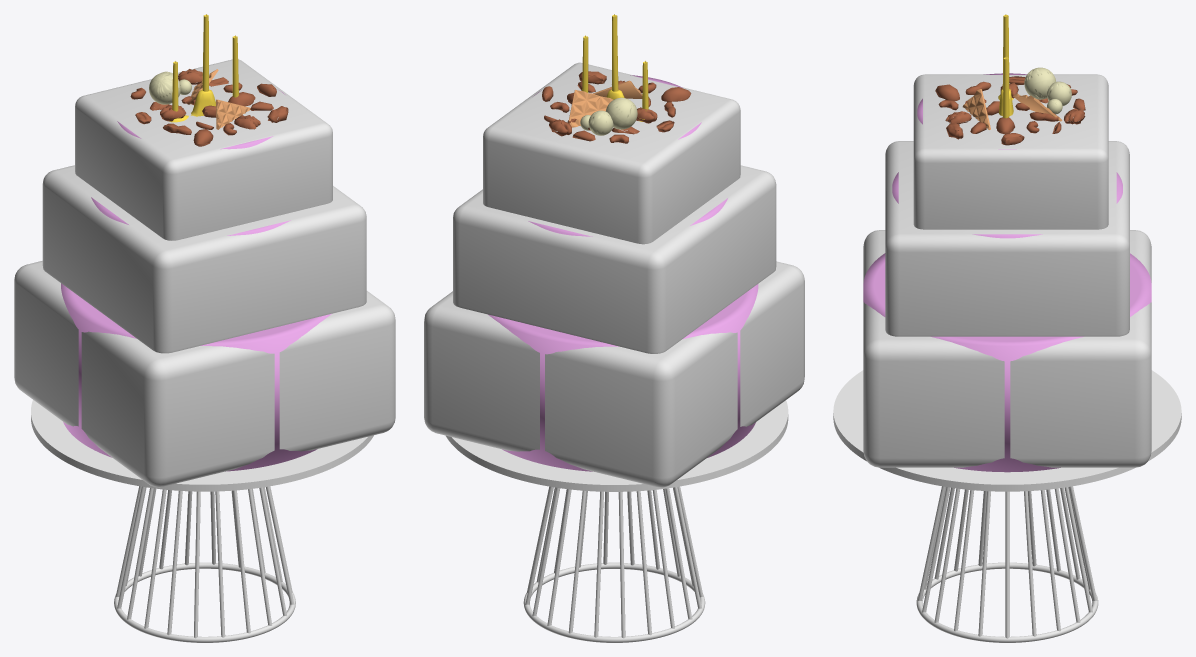
File: tier3.gltf
3 renders of one model, left to right at view 1: azimuth 30°, elevation 25°; view 2: azimuth 150°, elevation 25°; view 3: azimuth 270°, elevation 25°, orthographic.
Parts seen in each view (by area): view 1: Rectangle1st_layer, Rectangle2nd_layer, Rectangle3rd_layer, Base-2, round1st_layer, nuts, chandel, balls, bar; view 2: Rectangle1st_layer, Rectangle2nd_layer, Rectangle3rd_layer, Base-2, round1st_layer, nuts, balls, chandel, bar; view 3: Rectangle1st_layer, Rectangle2nd_layer, Rectangle3rd_layer, Base-2, round1st_layer, nuts, balls, bar, chandel, round2nd_layer.
Boxes of the visible parts, bbox=[...] form: Rectangle1st_layer: bbox=[14, 261, 395, 487]; Rectangle2nd_layer: bbox=[42, 165, 366, 353]; Rectangle3rd_layer: bbox=[75, 59, 332, 240]; Base-2: bbox=[31, 400, 373, 642]; round1st_layer: bbox=[61, 283, 331, 471]; nuts: bbox=[130, 69, 288, 146]; chandel: bbox=[169, 14, 238, 122]; balls: bbox=[149, 71, 191, 104]; bar: bbox=[187, 69, 250, 129]; Rectangle1st_layer: bbox=[424, 261, 804, 487]; Rectangle2nd_layer: bbox=[453, 165, 776, 353]; Rectangle3rd_layer: bbox=[483, 62, 740, 244]; Base-2: bbox=[446, 400, 788, 642]; round1st_layer: bbox=[488, 284, 758, 471]; nuts: bbox=[542, 71, 691, 143]; balls: bbox=[580, 97, 637, 135]; chandel: bbox=[582, 14, 648, 121]; bar: bbox=[568, 80, 642, 127]; Rectangle1st_layer: bbox=[863, 230, 1151, 467]; Rectangle2nd_layer: bbox=[885, 141, 1129, 336]; Rectangle3rd_layer: bbox=[913, 74, 1108, 229]; Base-2: bbox=[833, 370, 1181, 642]; round1st_layer: bbox=[863, 253, 1151, 472]; nuts: bbox=[935, 76, 1085, 145]; balls: bbox=[1024, 67, 1071, 114]; bar: bbox=[962, 89, 1062, 129]; chandel: bbox=[998, 14, 1013, 118]; round2nd_layer: bbox=[892, 172, 1122, 238].
Bounding box in the file's own units: 2.3 × 4.31 × 2.3.
